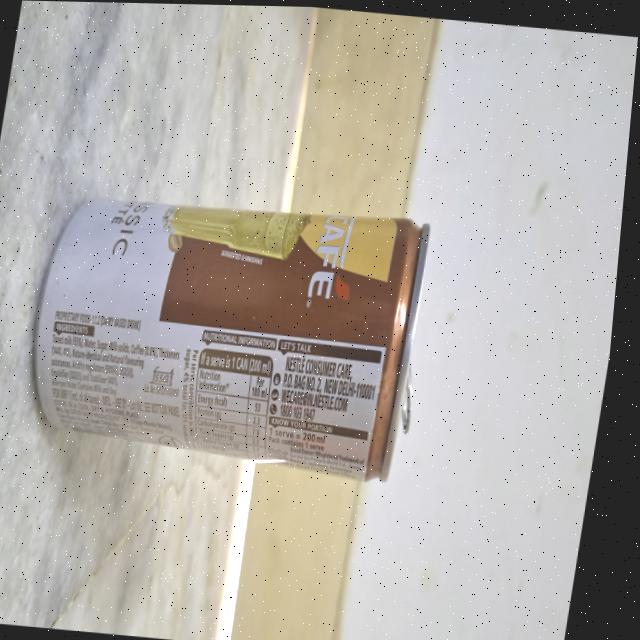Nescafe Classic Iced Latte: (29, 177, 440, 462)
